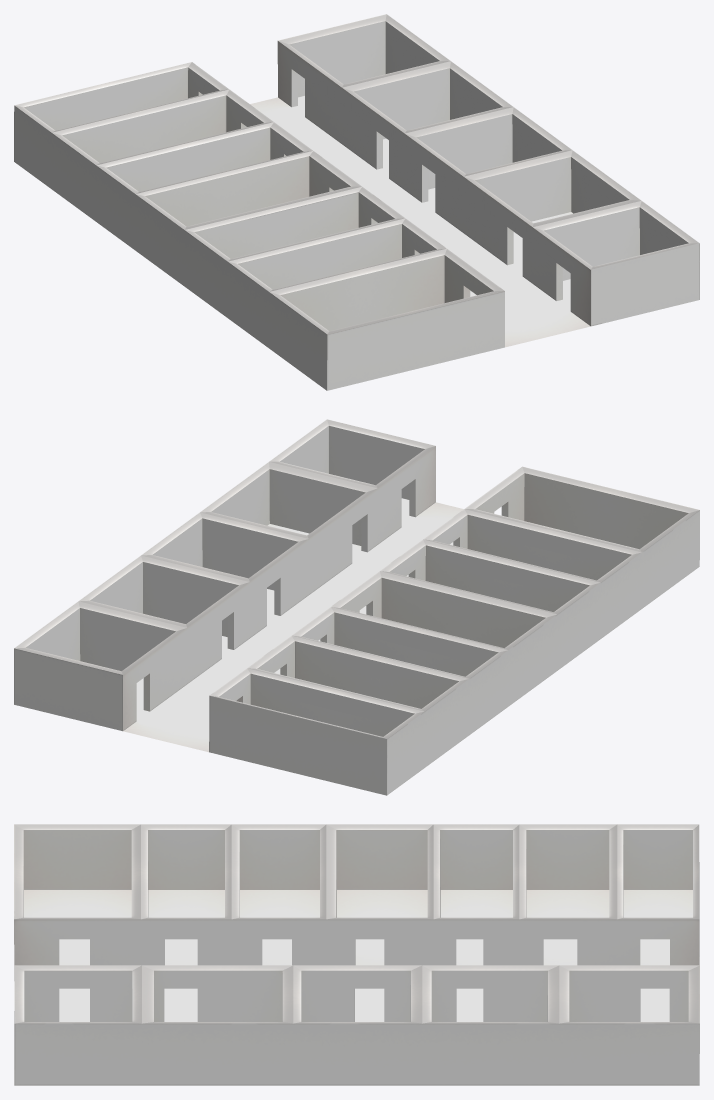
The model's file is room_complete.glb.
3 renders of one model, top to bottom at view 1: azimuth 30°, elevation 25°; view 2: azimuth 150°, elevation 25°; view 3: azimuth 270°, elevation 25°, orthographic. The views are drawn at different scales.
Visible parts, largest first — view 1: Plane, Plane.007, Plane.004, Plane.002, Plane.005, Plane.011, Plane.006, Plane.003, Plane.008, Plane.009, Plane.001, Plane.010 (+1 smaller); view 2: Plane, Plane.007, Plane.004, Plane.002, Plane.005, Plane.011, Plane.006, Plane.008, Plane.003, Plane.009, Plane.001, Plane.010 (+1 smaller); view 3: Plane, Plane.007, Plane.004, Plane.002, Plane.005, Plane.006, Plane.003, Plane.001, Plane.011, Plane.008, Plane.009, Plane.010 (+1 smaller).
Boxes of the visible parts, x1,y1,x2,y2 form: Plane: (14,14,699,390); Plane.007: (280,255,493,331); Plane.004: (145,156,350,226); Plane.002: (62,95,263,162); Plane.005: (194,192,394,258); Plane.011: (475,157,629,269); Plane.006: (238,224,436,289); Plane.003: (106,127,303,191); Plane.008: (289,21,439,110); Plane.009: (354,68,502,171); Plane.001: (24,67,219,130); Plane.010: (416,114,561,205); Plane: (14,419,699,795); Plane.007: (475,473,688,549); Plane.004: (340,577,545,648); Plane.002: (257,641,458,708); Plane.005: (389,545,589,611); Plane.011: (211,469,365,556); Plane.006: (433,515,631,580); Plane.008: (26,608,175,714); Plane.003: (301,612,498,676); Plane.009: (90,562,238,652); Plane.001: (219,673,414,736); Plane.010: (153,518,298,619); Plane: (14,824,699,1085); Plane.007: (23,830,131,965); Plane.004: (336,830,427,965); Plane.002: (526,830,609,965); Plane.005: (239,830,319,965); Plane.006: (148,830,224,965); Plane.003: (440,830,512,965); Plane.001: (623,830,692,965); Plane.011: (154,970,282,1021); Plane.008: (569,970,688,1021); Plane.009: (431,970,547,1021); Plane.010: (301,970,410,1021).
Bounding box in the file's own units: 2.26 × 0.3273 × 3.29.
1 material, 1 textured.
